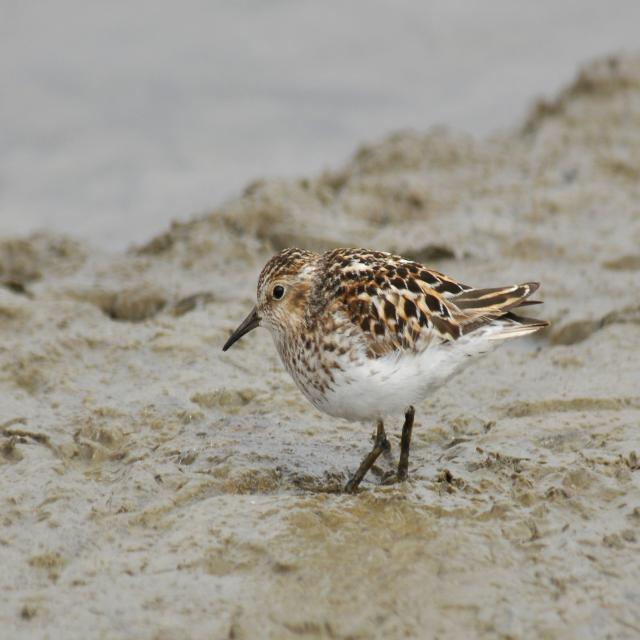Sandpiper: (214, 237, 546, 511)
